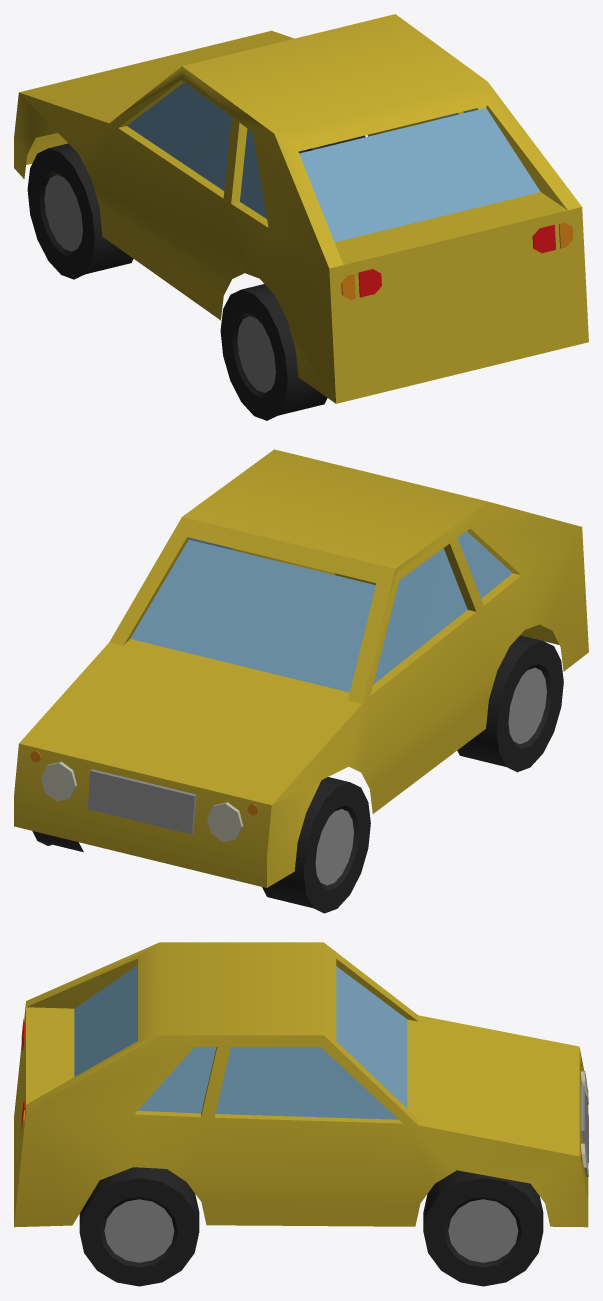
The model's file is new_yellow_car.fbx.
3 renders of one model, top to bottom at view 1: azimuth 30°, elevation 25°; view 2: azimuth 150°, elevation 25°; view 3: azimuth 270°, elevation 25°, orthographic. The views are drawn at different scales.
Parts seen in each view (by area): view 1: car-hatchback-citrus_Cube.592_carmaterial_citrus, car-hatchback-citrus_Cube.592_windows, car-hatchback-citrus_Cube.592_tires, car-hatchback-citrus_Cube.592_metal, car-hatchback-citrus_Cube.592_lights.red, car-hatchback-citrus_Cube.592_lights.orange; view 2: car-hatchback-citrus_Cube.592_carmaterial_citrus, car-hatchback-citrus_Cube.592_windows, car-hatchback-citrus_Cube.592_tires, car-hatchback-citrus_Cube.592_metal, car-hatchback-citrus_Cube.592_lights; view 3: car-hatchback-citrus_Cube.592_carmaterial_citrus, car-hatchback-citrus_Cube.592_windows, car-hatchback-citrus_Cube.592_tires, car-hatchback-citrus_Cube.592_metal.
Boxes of the visible parts, x1=… form: car-hatchback-citrus_Cube.592_carmaterial_citrus: x1=14, y1=14, x2=588, y2=403; car-hatchback-citrus_Cube.592_windows: x1=127, y1=82, x2=540, y2=242; car-hatchback-citrus_Cube.592_tires: x1=27, y1=135, x2=365, y2=420; car-hatchback-citrus_Cube.592_metal: x1=44, y1=147, x2=318, y2=392; car-hatchback-citrus_Cube.592_lights.red: x1=358, y1=225, x2=555, y2=297; car-hatchback-citrus_Cube.592_lights.orange: x1=341, y1=222, x2=573, y2=299; car-hatchback-citrus_Cube.592_carmaterial_citrus: x1=14, y1=449, x2=588, y2=887; car-hatchback-citrus_Cube.592_windows: x1=130, y1=531, x2=512, y2=692; car-hatchback-citrus_Cube.592_tires: x1=32, y1=635, x2=563, y2=913; car-hatchback-citrus_Cube.592_metal: x1=87, y1=667, x2=546, y2=885; car-hatchback-citrus_Cube.592_lights: x1=40, y1=761, x2=242, y2=841; car-hatchback-citrus_Cube.592_carmaterial_citrus: x1=14, y1=942, x2=588, y2=1227; car-hatchback-citrus_Cube.592_windows: x1=74, y1=965, x2=407, y2=1119; car-hatchback-citrus_Cube.592_tires: x1=79, y1=1167, x2=543, y2=1286; car-hatchback-citrus_Cube.592_metal: x1=104, y1=1085, x2=588, y2=1262.
Bounding box in the file's own units: 0.8924 × 0.8235 × 1.81.
